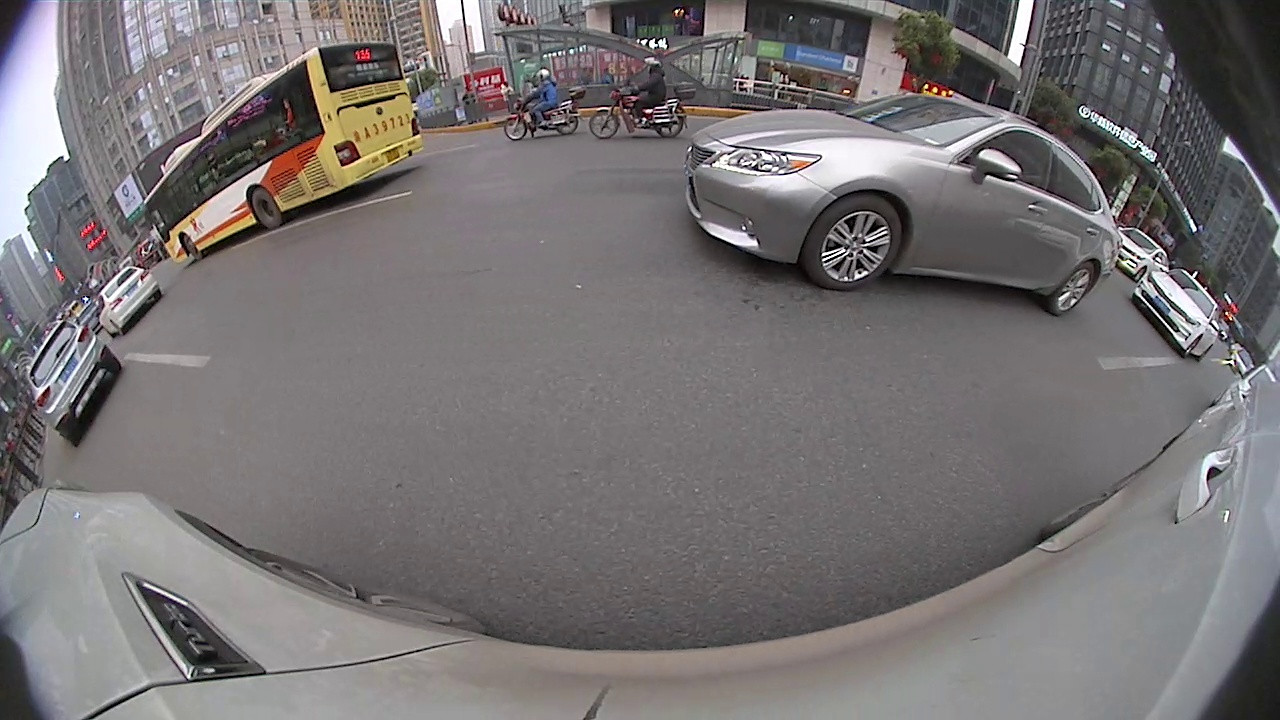bus: (142, 39, 423, 268)
car: (692, 102, 1116, 318), (22, 307, 123, 448), (1121, 267, 1226, 364), (92, 258, 168, 344), (1114, 228, 1168, 282)
front: (800, 191, 903, 294), (588, 108, 621, 140), (179, 230, 203, 262), (504, 114, 529, 141)
rear: (1046, 260, 1099, 317), (248, 186, 283, 232), (655, 115, 685, 139), (553, 115, 581, 138)
rider: (590, 52, 696, 142), (506, 69, 582, 147)
